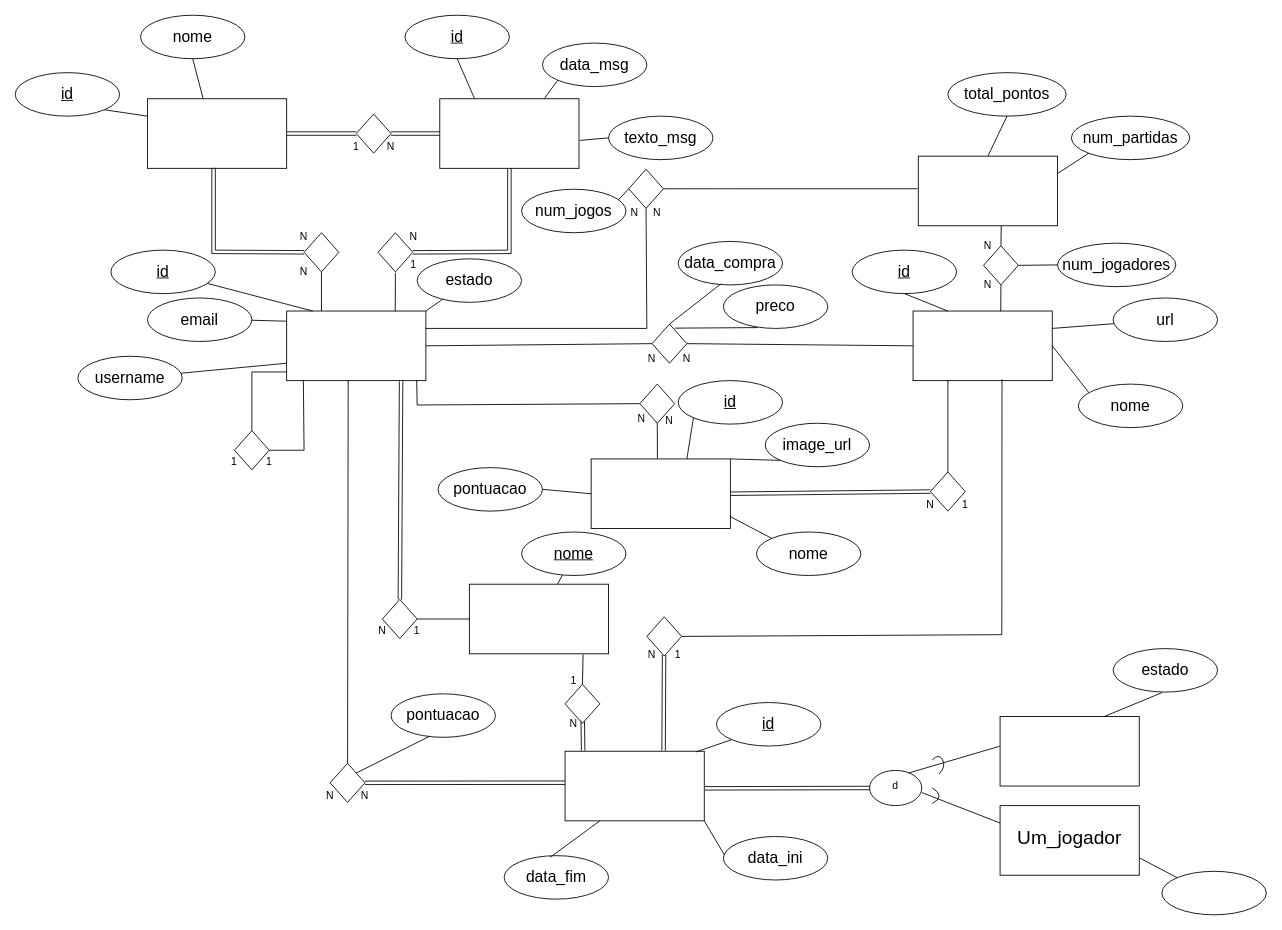
This 1282x930 diagram has some shape labels left out. The centre of each missing label's shape, as x and y in pixels:
"Conversa" belongs at point 217,133.
"Cracha" belongs at point 660,493.
"dificuldade" belongs at point 1213,892.
"Estatistica" belongs at point 987,190.
"Jogador" belongs at point 356,345.
"Jogo" belongs at point 982,345.
"Mensagem" belongs at point 509,133.
"Multi_jogador" belongs at point 1069,751.
"Partida" belongs at point 634,785.
"Regiao" belongs at point 538,618.
